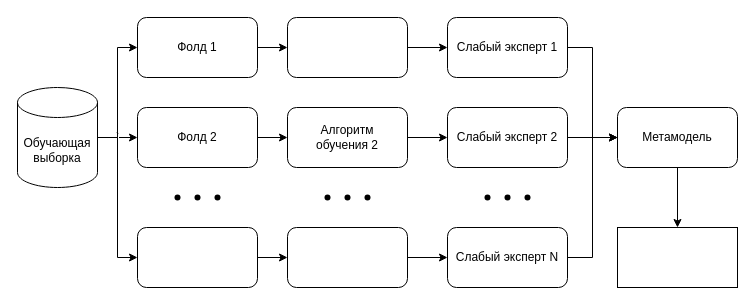
Image size: 755x305. Some labels were removed from this diagram. Here are the shapes that lost their labels. From the top down, the centre of each, then its label:
At pixel 347 47: "Алгоритм обучения 1".
At pixel 197 257: "Фолд N".
At pixel 347 257: "Алгоритм обучения N".
At pixel 677 257: "Окончательное решение".
